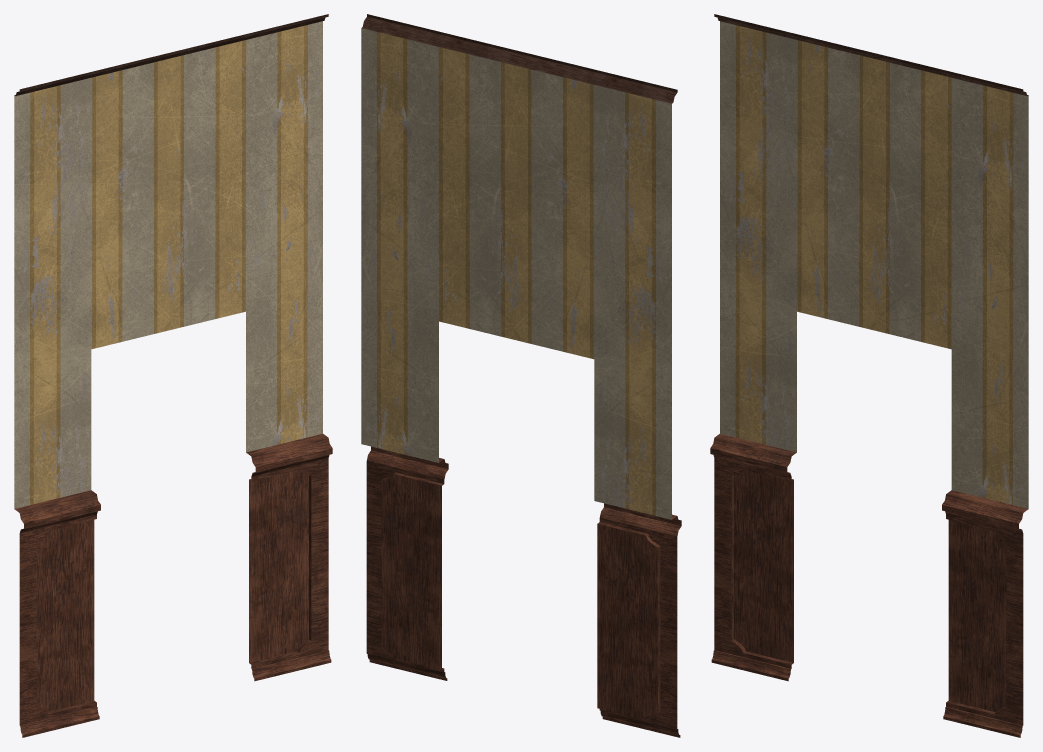
The model's file is SM_Wallpaper_DoorFrame.fbx.
The picture shows the model from 3 angles, left to right: view 1: azimuth 30°, elevation 25°; view 2: azimuth 150°, elevation 25°; view 3: azimuth 330°, elevation 25°; orthographic projection.
Parts seen in each view (by area): view 1: SM_Wallpaper_DoorFrame; view 2: SM_Wallpaper_DoorFrame; view 3: SM_Wallpaper_DoorFrame.
Part boxes in pixels (box(x1,y1,x2,y2)): SM_Wallpaper_DoorFrame: box(14, 14, 332, 737); SM_Wallpaper_DoorFrame: box(361, 14, 681, 737); SM_Wallpaper_DoorFrame: box(710, 14, 1028, 737).
Size of the model in its own units: 200 by 400 by 10.8.
